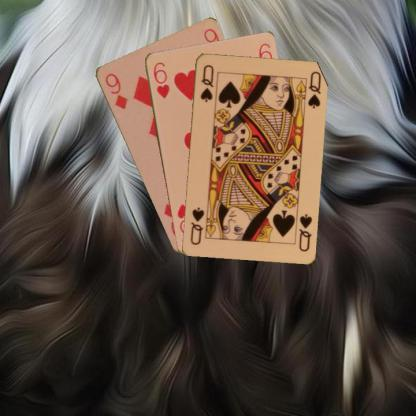6h: (150, 59, 171, 100)
9d: (102, 70, 129, 110)
Qs: (296, 211, 313, 252), (198, 62, 214, 103)
